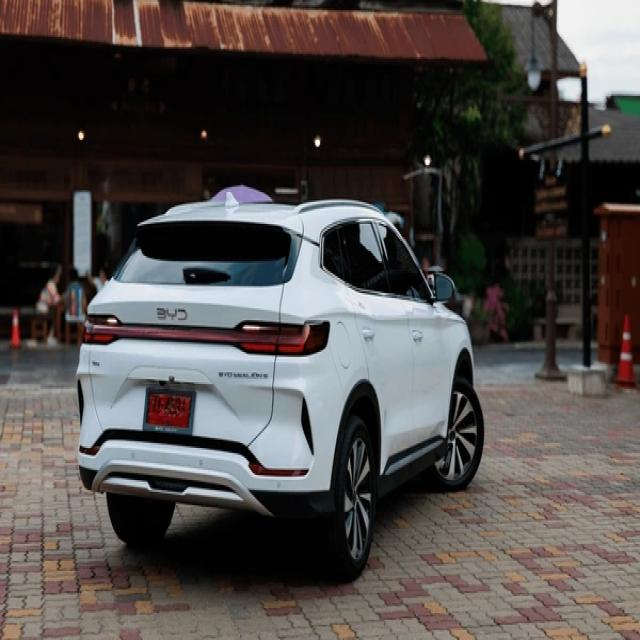byd: (155, 302, 188, 324)
